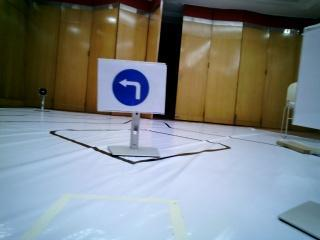left: (96, 60, 163, 114)
